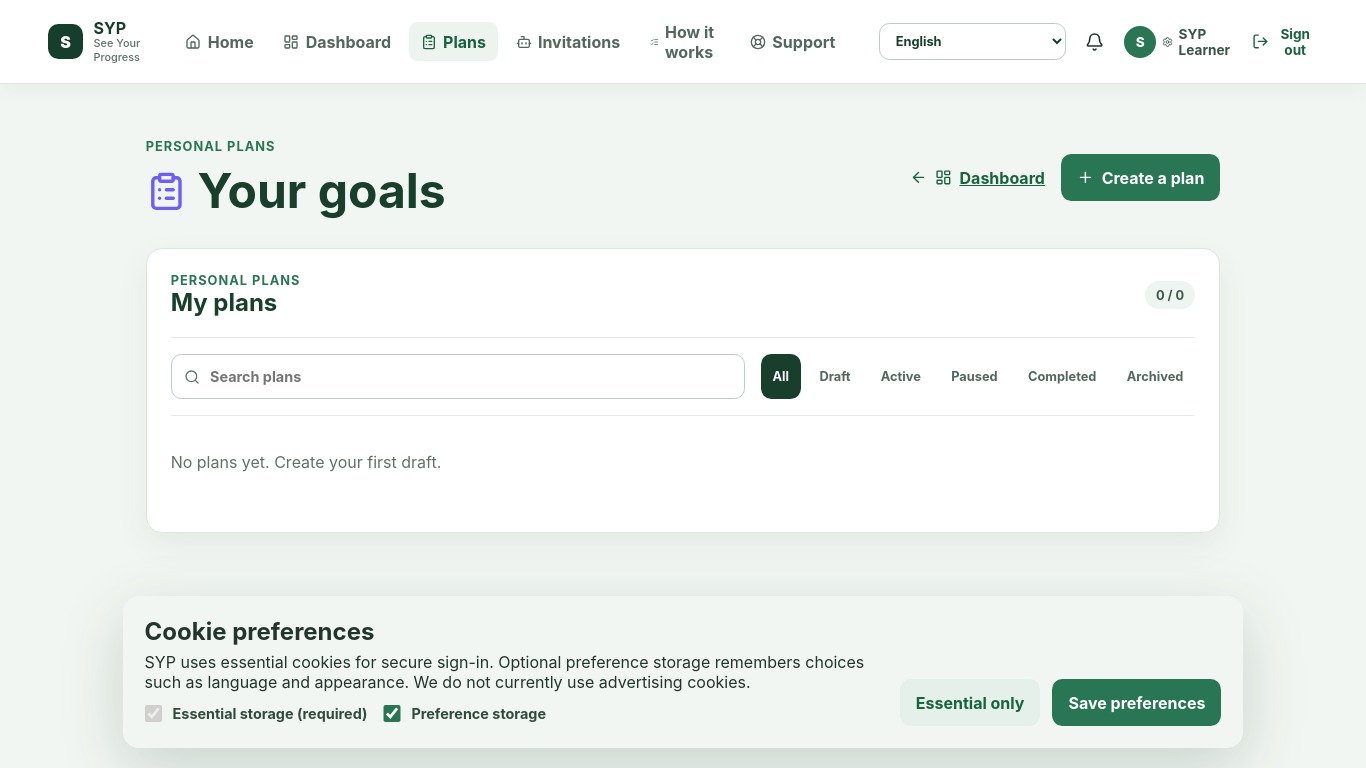
Test: shows the personal plan workspace for an authenticated user
Expected: the header named "Application header" is shown, top-left (0, 0), bottom-right (1365, 84)
Expected: the heading "Your goals" is shown, top-left (146, 166), bottom-right (446, 216)
Click the button "Create a plan". click: [1141, 178]
box: top-left (1061, 154), bottom-right (1220, 201)
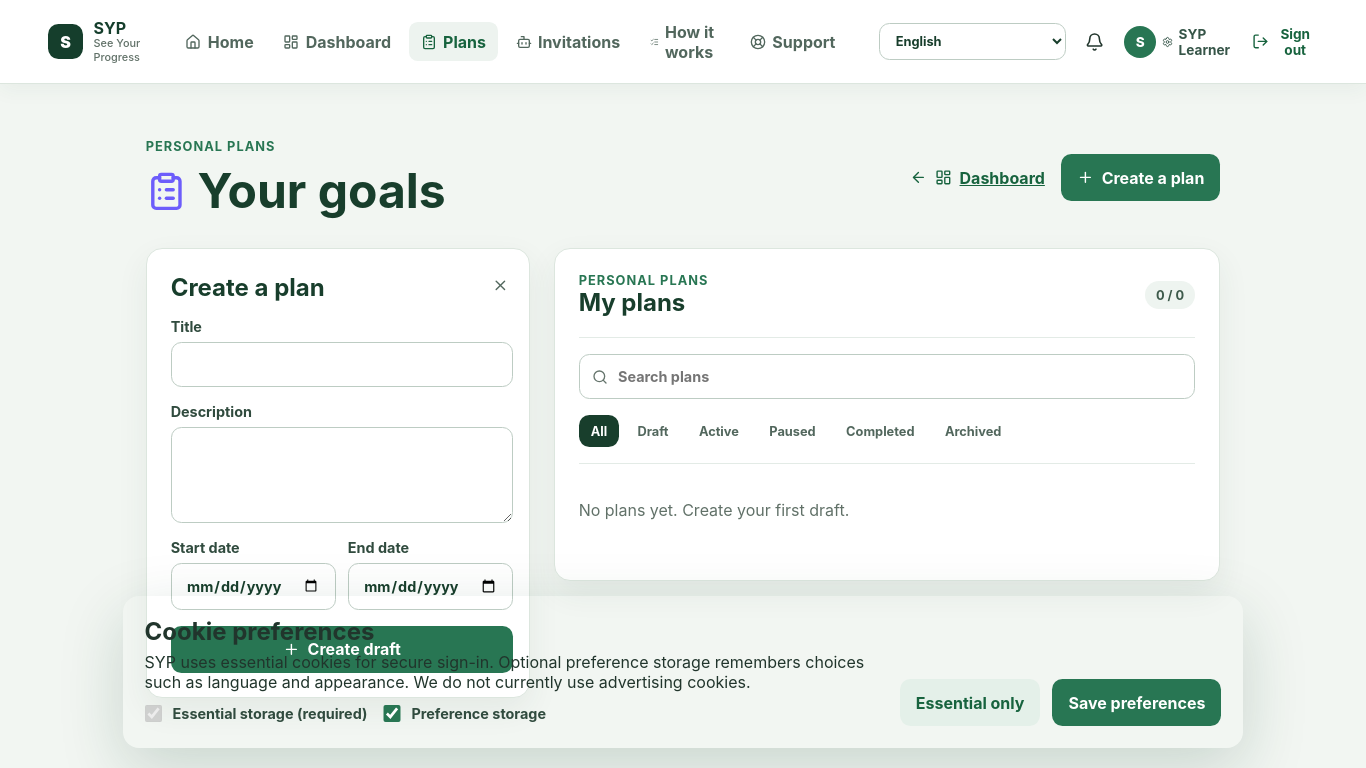
Now the button named "Close creation form" is shown
Click the button named "Close creation form". click: [501, 286]
box: top-left (488, 273), bottom-right (513, 298)
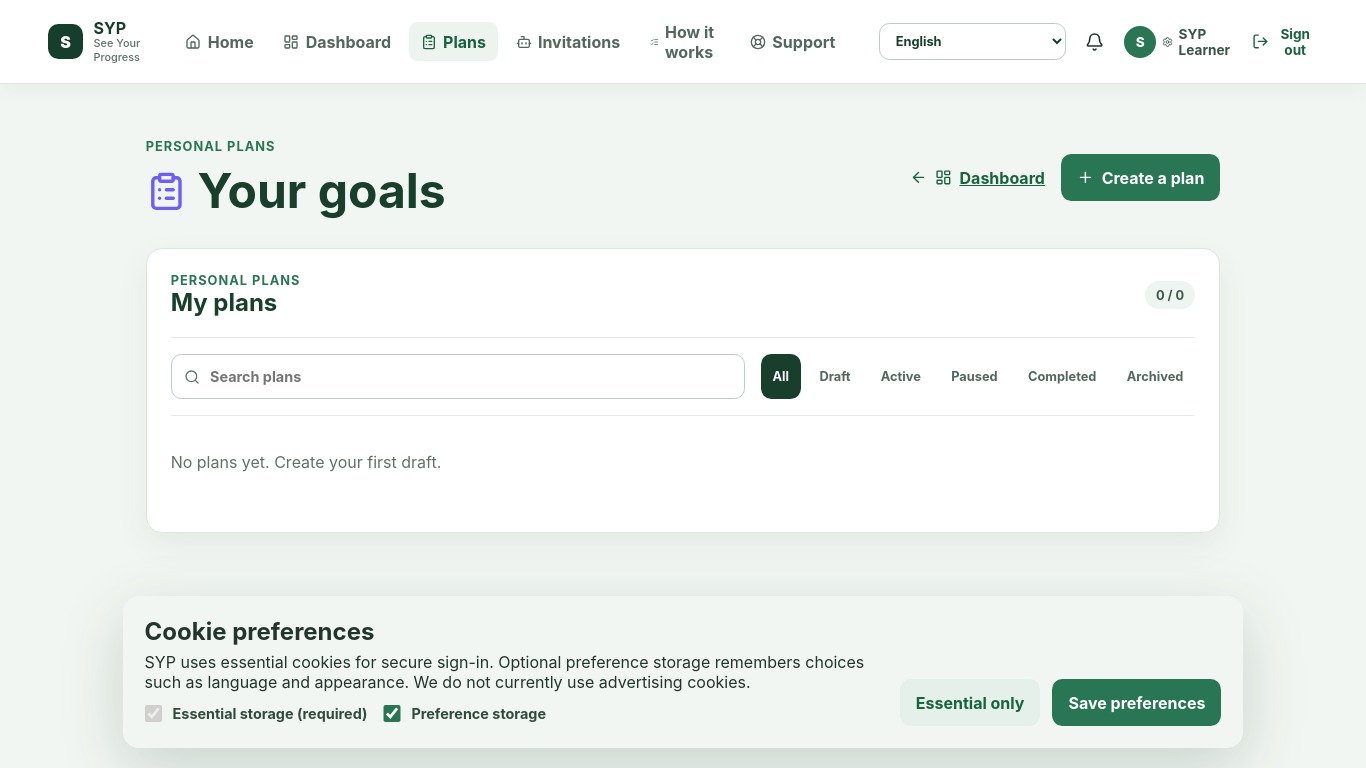
Now the form labelled "Close creation form" is gone
